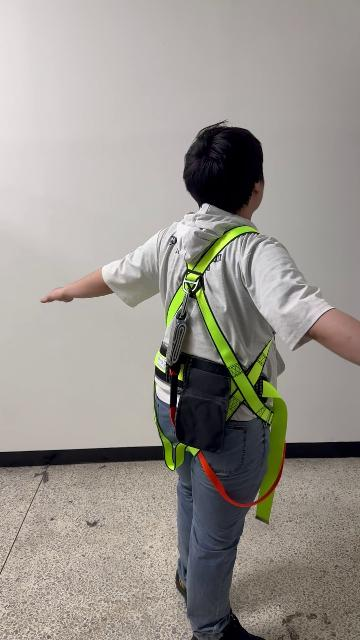helmet_not_worn: (181, 126, 267, 213)
shoe_worn: (189, 612, 267, 639), (175, 569, 187, 603)
vest_worn: (154, 230, 286, 506)
